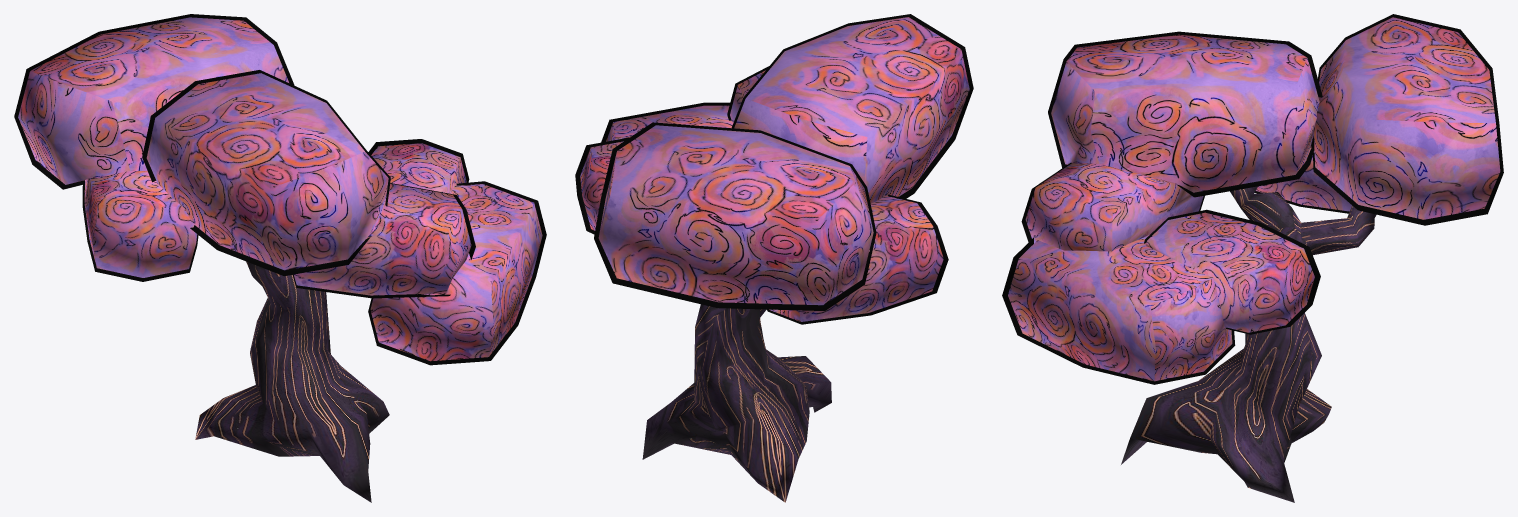
The model's file is entity81006n.gltf.
3 renders of one model, left to right at view 1: azimuth 30°, elevation 25°; view 2: azimuth 150°, elevation 25°; view 3: azimuth 270°, elevation 25°, orthographic. The views are drawn at different scales.
Visible parts, largest first — view 1: node_Tree_02 (1); view 2: node_Tree_02 (1); view 3: node_Tree_02 (1).
Part boxes in pixels (x1=…): node_Tree_02 (1): x1=14, y1=14, x2=546, y2=502; node_Tree_02 (1): x1=575, y1=14, x2=973, y2=502; node_Tree_02 (1): x1=1002, y1=14, x2=1503, y2=502.
Size of what is drawn, in the model's own units: 12.79 by 11.74 by 14.03.
